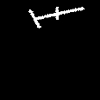double_crochet: (29, 7, 83, 27)
